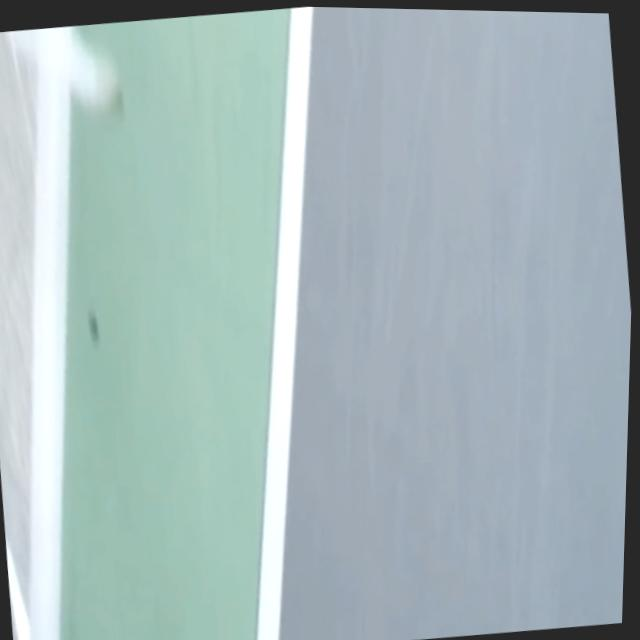right: (258, 7, 314, 640)
